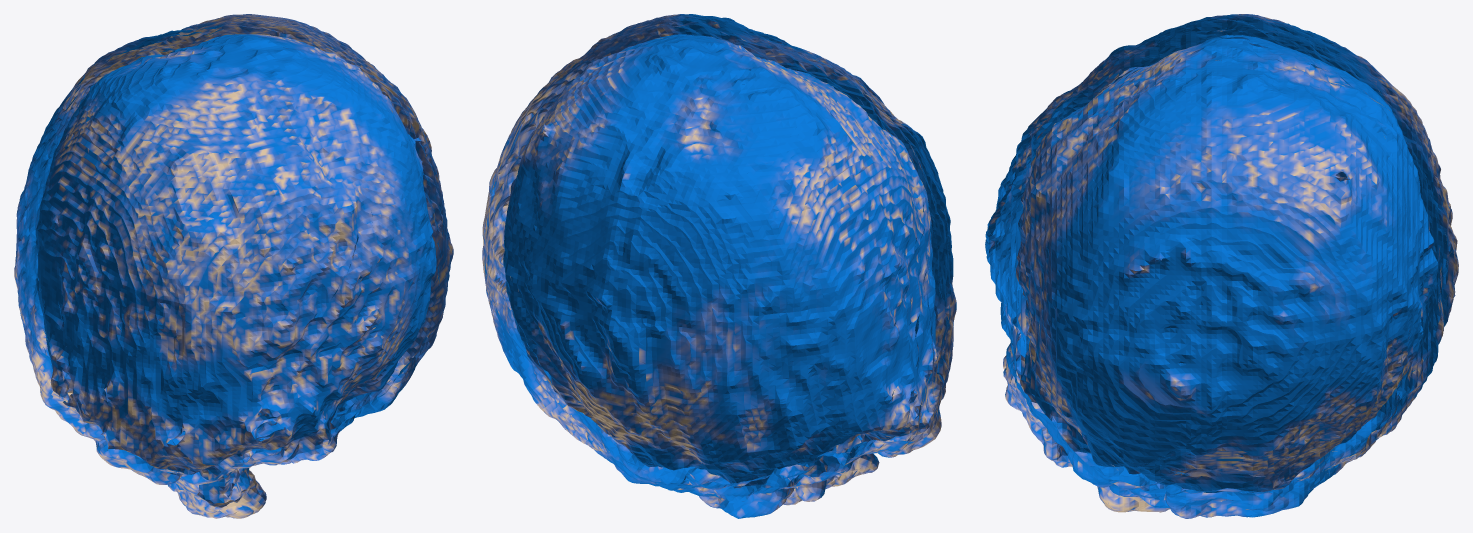
Rendered from clustering_cache_00030_cluster_16_surface.glb.
The picture shows the model from 3 angles, left to right: view 1: azimuth 30°, elevation 25°; view 2: azimuth 150°, elevation 25°; view 3: azimuth 270°, elevation 25°; orthographic projection. The views are drawn at different scales.
Bounding box in the file's own units: 0.727 × 0.8195 × 0.7183.
